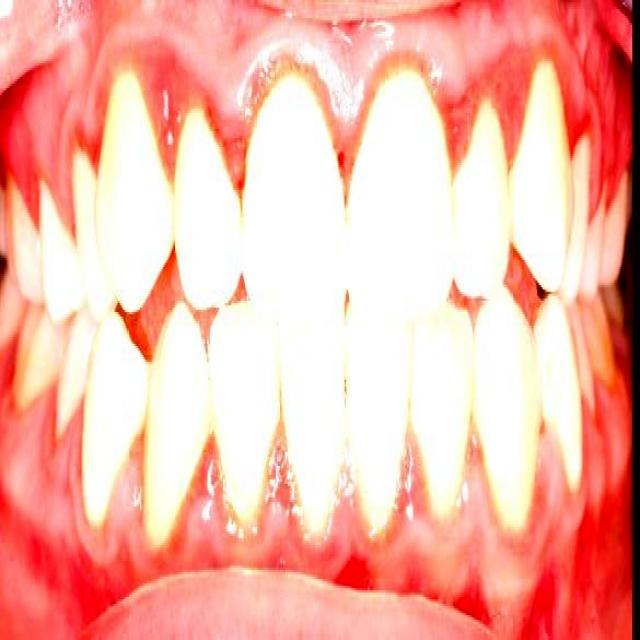gingivitis: (0, 0, 630, 219), (37, 430, 589, 613)
